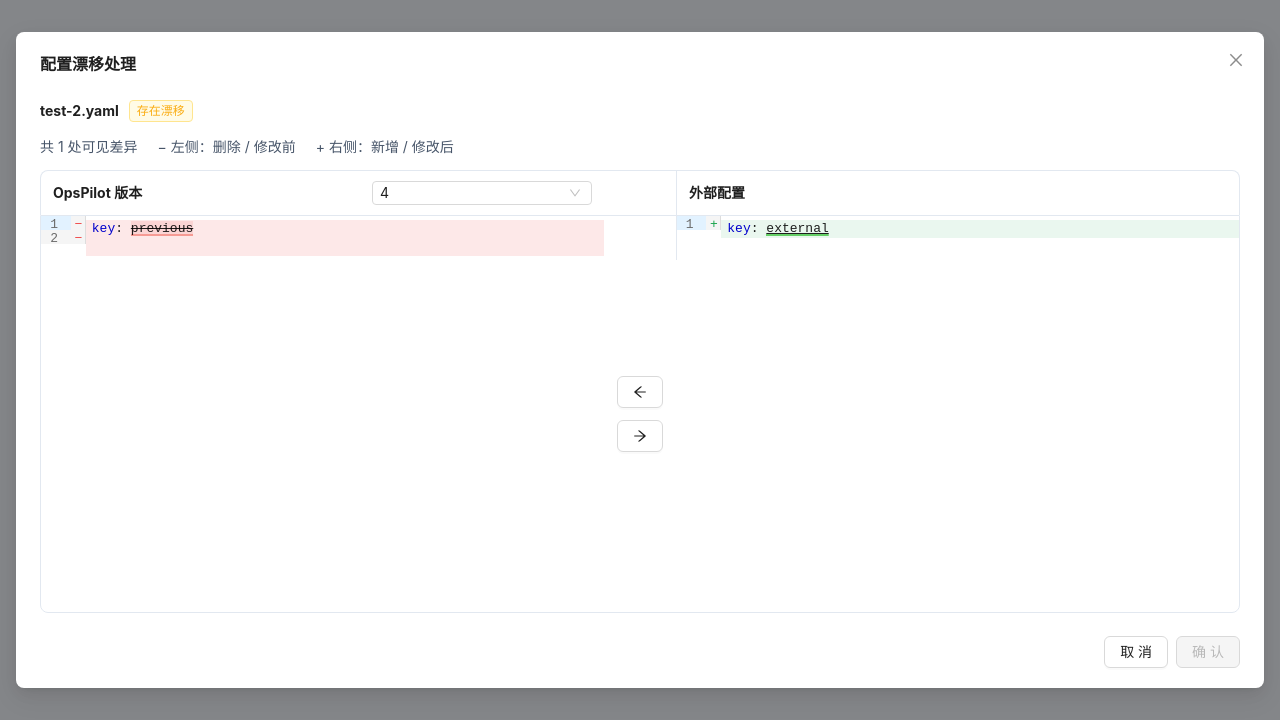
it: 漂移确认 › 切换版本重新高亮，重新发布方向只预览所选版本
Expected: the field with class "cm-content" reads "key: previous", [86, 216, 604, 260]
Expected: the element with class "cm-changedLine" showing "key: previous" is shown, [86, 220, 604, 238]
Click the button named "重新发布 OpsPilot 版本": {"x": 640, "y": 436} [617, 420, 663, 452]
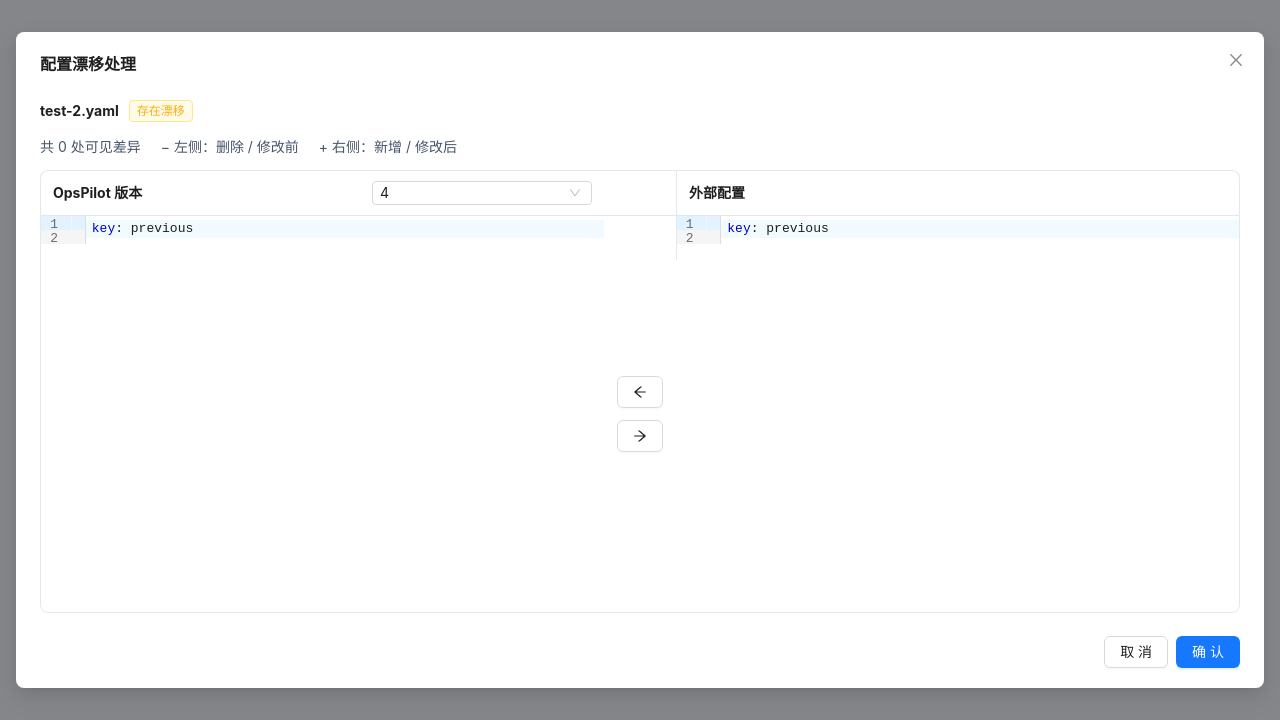
Expected: no elements with class "cm-changedLine" are shown
Expected: the 2nd field with class "cm-content" reads "key: previous", [721, 220, 1239, 238]
